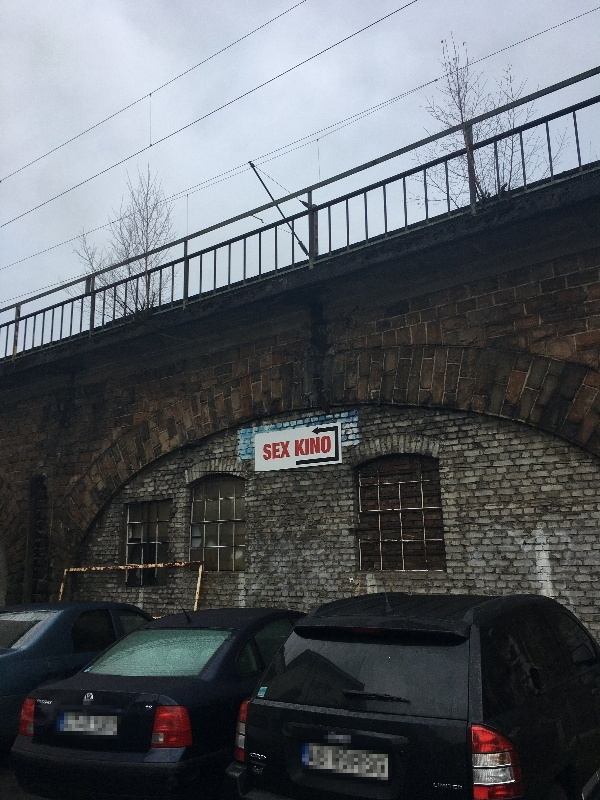text: (305, 435, 320, 457), (273, 440, 288, 461), (321, 435, 331, 457), (295, 435, 304, 457), (263, 440, 272, 461), (433, 783, 448, 792), (449, 783, 463, 792), (145, 705, 160, 712), (257, 752, 267, 762), (257, 760, 266, 768), (257, 766, 263, 778), (38, 699, 48, 706), (251, 752, 256, 762), (289, 440, 291, 461), (252, 760, 256, 768), (49, 699, 53, 706), (254, 766, 256, 778)
